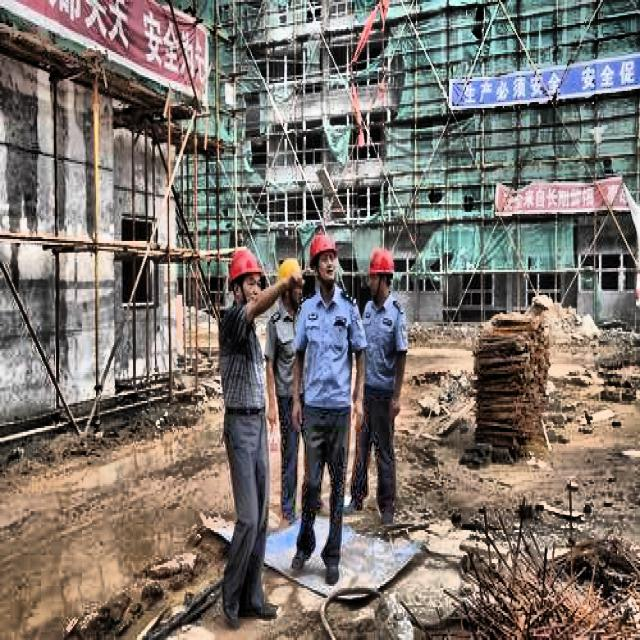helmet: (226, 243, 264, 310), (312, 229, 340, 295), (276, 250, 306, 310), (368, 244, 396, 304)
